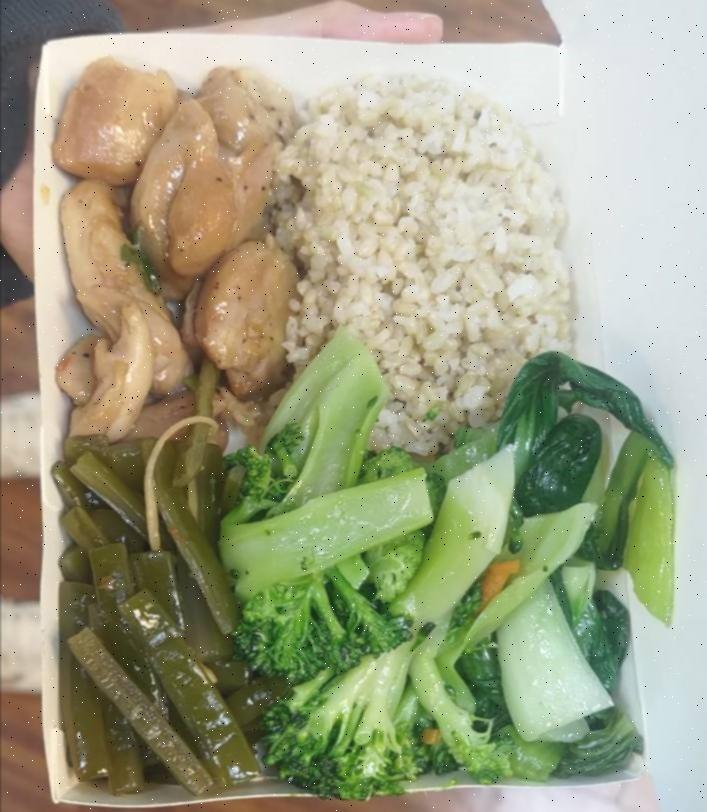big grilled chicken leg: (17, 14, 642, 808)
box: (282, 77, 576, 446)
braised fish fillet: (236, 331, 521, 800), (456, 350, 678, 778), (54, 426, 240, 790)
braised pork: (49, 62, 292, 438)
